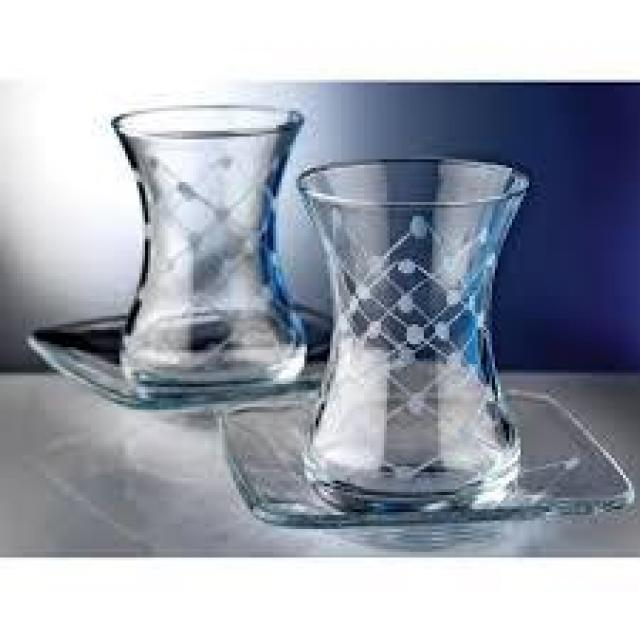non-organic waste: (223, 155, 636, 531)
